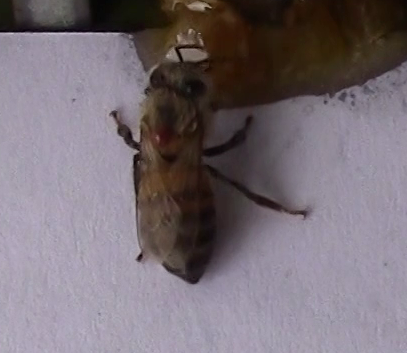Varroa destructor: (150, 120, 179, 148)
